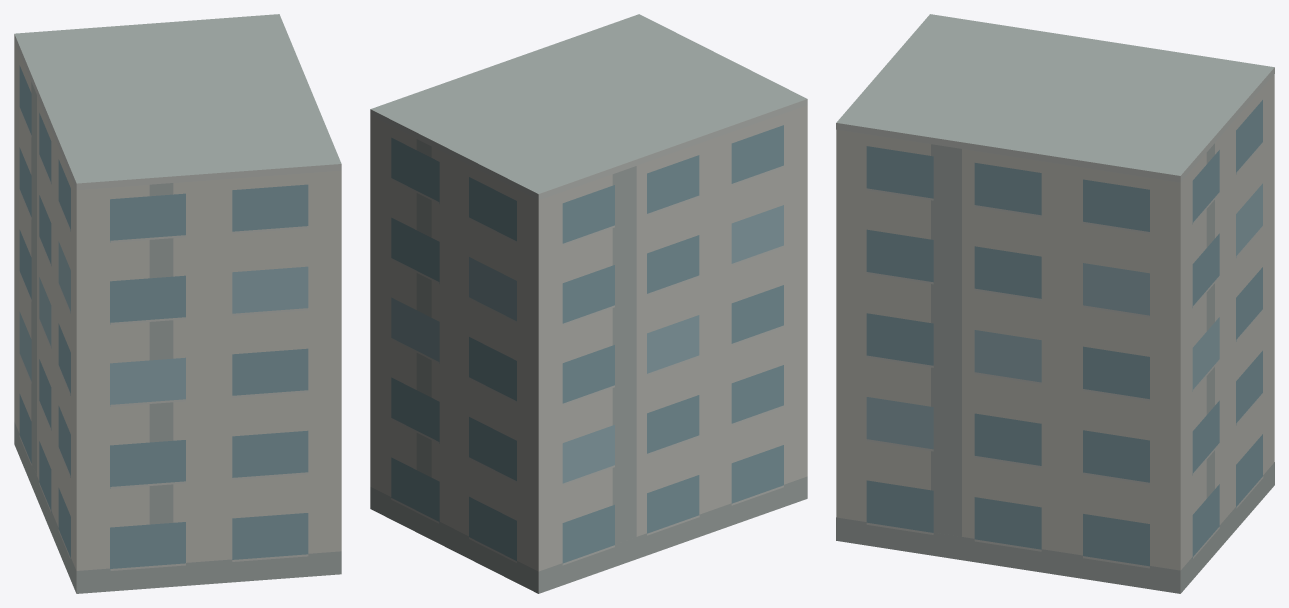
Rendered from residential-c4d9318e-5c36-45b5-b3d0-d772492d2a83.glb.
3 views of the same model, side by side, from view 1: azimuth 30°, elevation 25°; view 2: azimuth 150°, elevation 25°; view 3: azimuth 270°, elevation 25° (orthographic). The views are drawn at different scales.
Parts seen in each view (by area): view 1: residential-c4d9318e-5c36-45b5-b3d0-d772492d2a83.tmp; view 2: residential-c4d9318e-5c36-45b5-b3d0-d772492d2a83.tmp; view 3: residential-c4d9318e-5c36-45b5-b3d0-d772492d2a83.tmp.
Boxes of the visible parts, box(x1,y1,x2,y2) form: residential-c4d9318e-5c36-45b5-b3d0-d772492d2a83.tmp: box(14, 14, 341, 593); residential-c4d9318e-5c36-45b5-b3d0-d772492d2a83.tmp: box(370, 14, 807, 593); residential-c4d9318e-5c36-45b5-b3d0-d772492d2a83.tmp: box(836, 14, 1274, 593).
Size of the model in its own units: 12.68 by 15.25 by 14.52.
